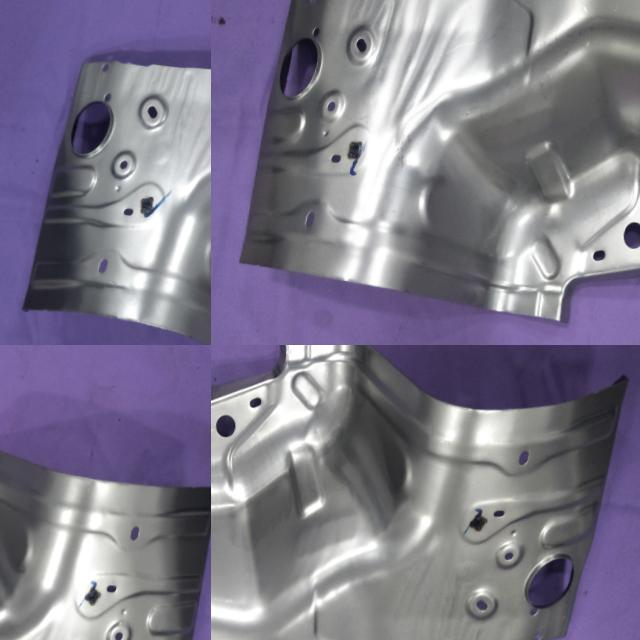Healthy: (234, 0, 640, 345), (211, 345, 631, 640), (15, 22, 211, 345), (0, 413, 211, 640)
